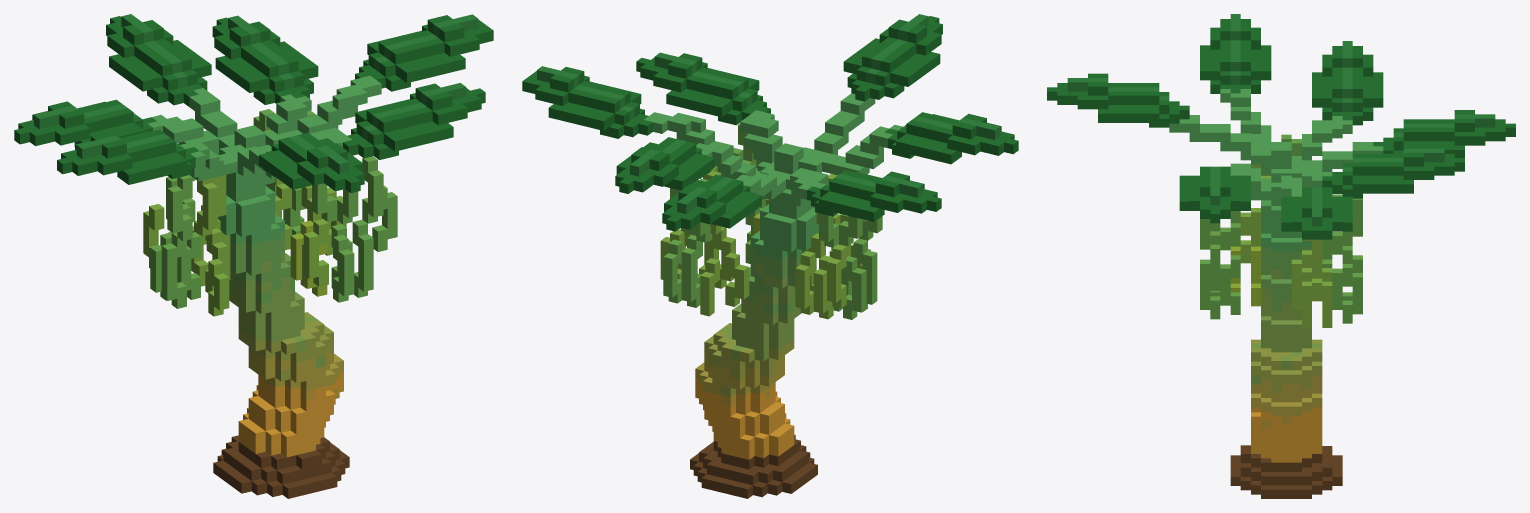
The model's file is 2_0 bana.obj.
The picture shows the model from 3 angles, left to right: view 1: azimuth 30°, elevation 25°; view 2: azimuth 150°, elevation 25°; view 3: azimuth 270°, elevation 25°; orthographic projection. The views are drawn at different scales.
Size of the model in its own units: 4.8 by 4 by 4.6.
Materials: 1 (1 with a texture image).
